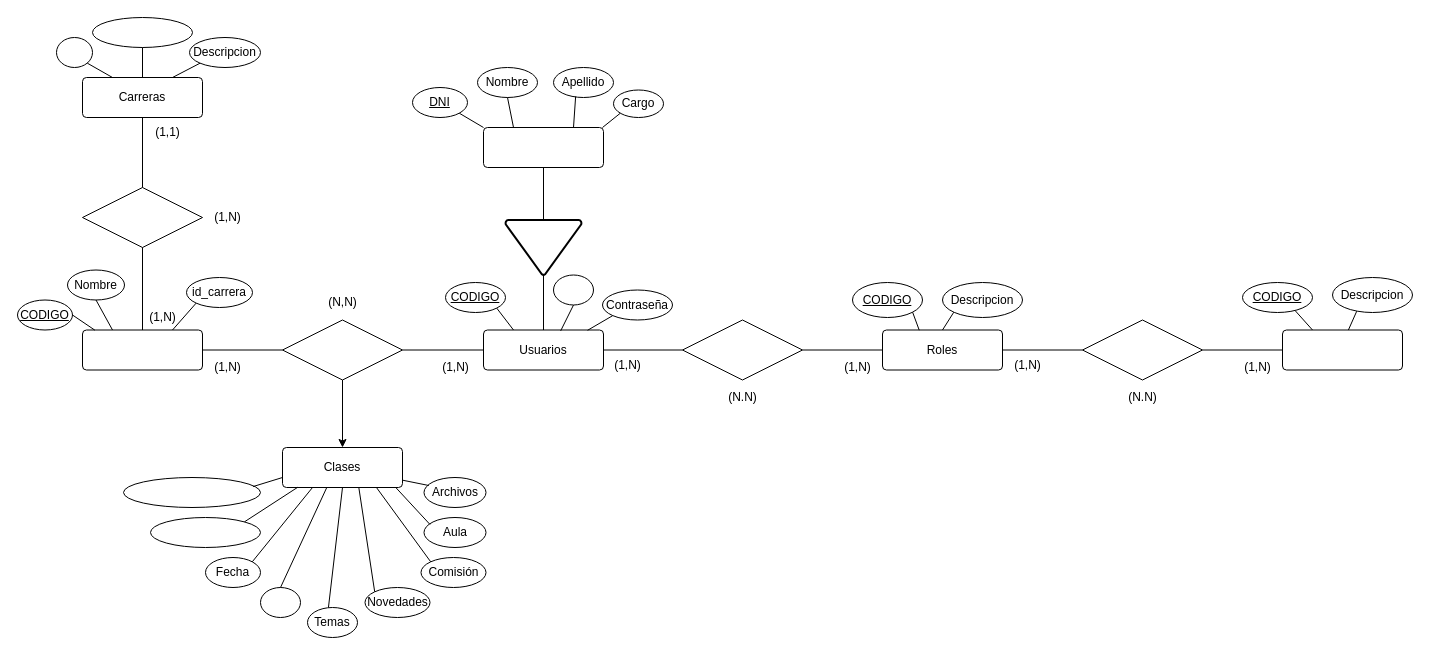
Image size: 1430x655. Some labels were removed from this diagram. Each missing label, with the box of its shape:
CODIGO_MATERIA: (150, 516, 260, 548)
CODIGO_USUARIO: (122, 476, 260, 508)
ES: (504, 218, 582, 276)
Hora: (260, 586, 300, 618)
ID: (56, 36, 92, 68)
Mail: (552, 274, 594, 305)
Materias: (82, 329, 202, 370)
Modulos: (1282, 329, 1402, 370)
Persona: (482, 126, 604, 168)
RolXMod: (1082, 319, 1202, 380)
Titulo_abreviado: (92, 16, 192, 48)
UsuXRol: (682, 319, 802, 380)
